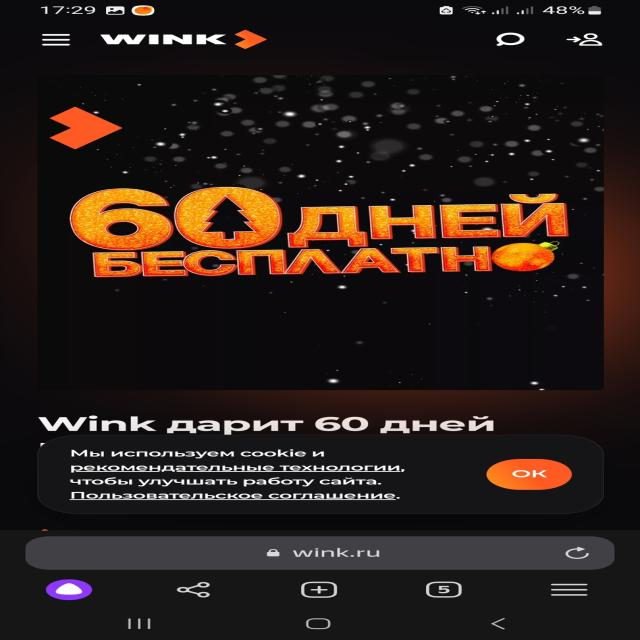button: (483, 459, 579, 491)
site: (33, 434, 608, 516)
